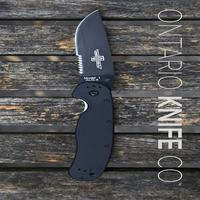knife: (67, 5, 120, 186)
